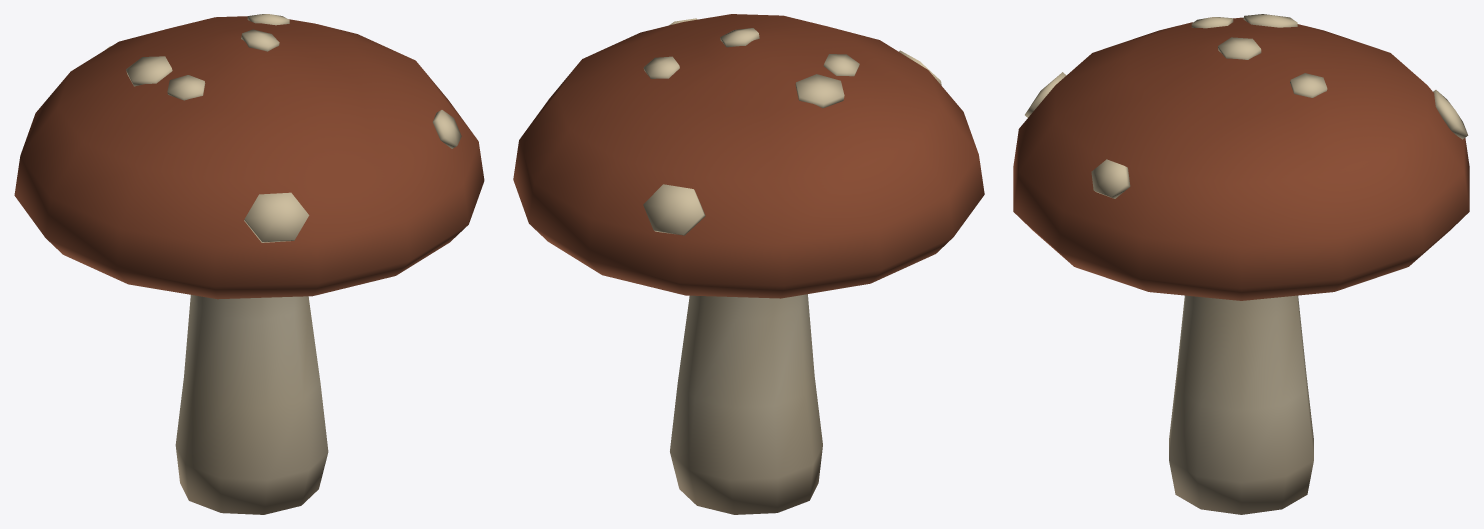
File: mushroom.glb
3 renders of one model, left to right at view 1: azimuth 30°, elevation 25°; view 2: azimuth 150°, elevation 25°; view 3: azimuth 270°, elevation 25°, orthographic.
Parts seen in each view (by area): view 1: mushroom; view 2: mushroom; view 3: mushroom.
Part boxes in pixels (bbox=[...]): mushroom: bbox=[14, 14, 484, 514]; mushroom: bbox=[513, 14, 984, 514]; mushroom: bbox=[1013, 14, 1469, 514].
Bounding box in the file's own units: 0.081 × 0.0868 × 0.079.
